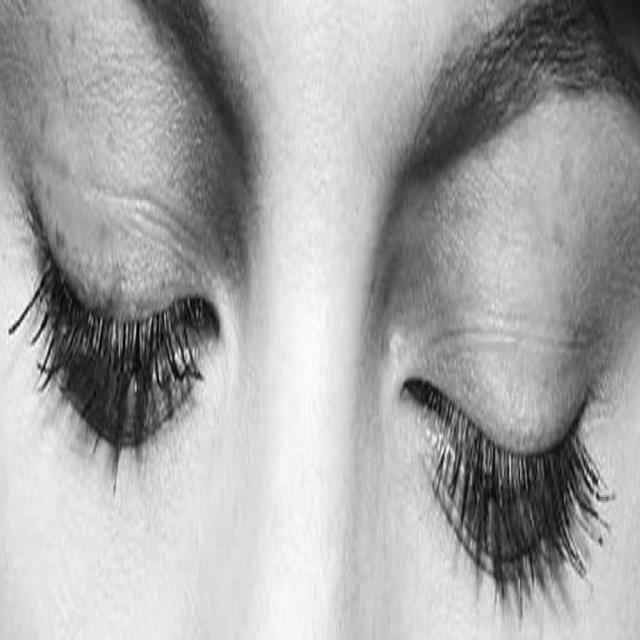real: (8, 0, 635, 621)
